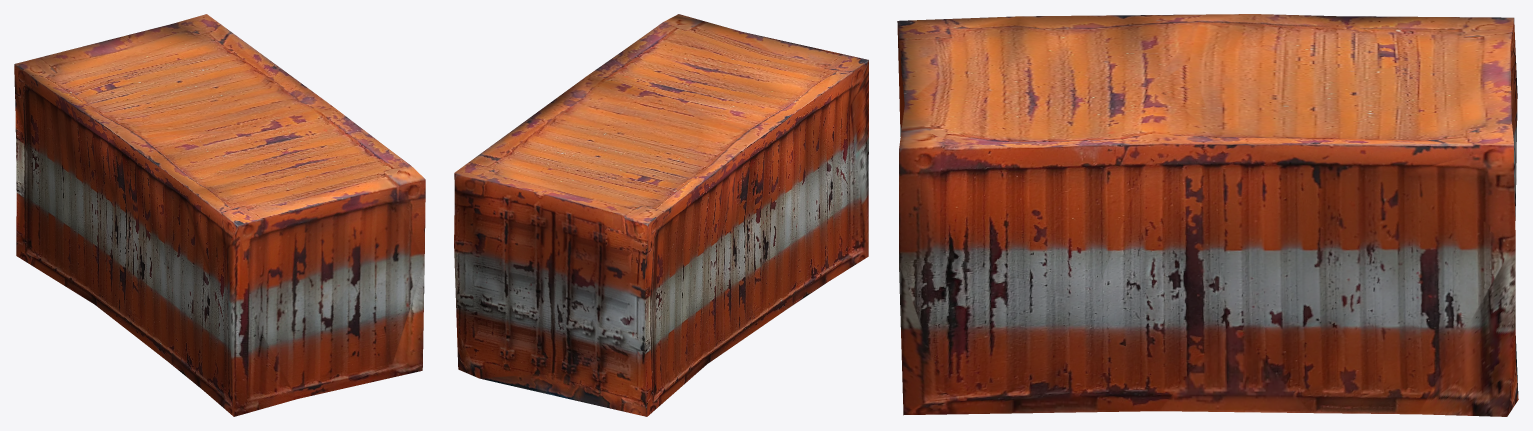
The model's file is container-size-3.glb.
3 renders of one model, left to right at view 1: azimuth 30°, elevation 25°; view 2: azimuth 150°, elevation 25°; view 3: azimuth 270°, elevation 25°, orthographic. The views are drawn at different scales.
Visible parts, largest first — view 1: Container_orange; view 2: Container_orange; view 3: Container_orange.
Part boxes in pixels (x1=…): Container_orange: x1=14, y1=14, x2=425, y2=416; Container_orange: x1=454, y1=14, x2=868, y2=416; Container_orange: x1=897, y1=14, x2=1518, y2=416.
Bounding box in the file's own units: 2.24 × 2.19 × 4.47.
1 material, 1 textured.
